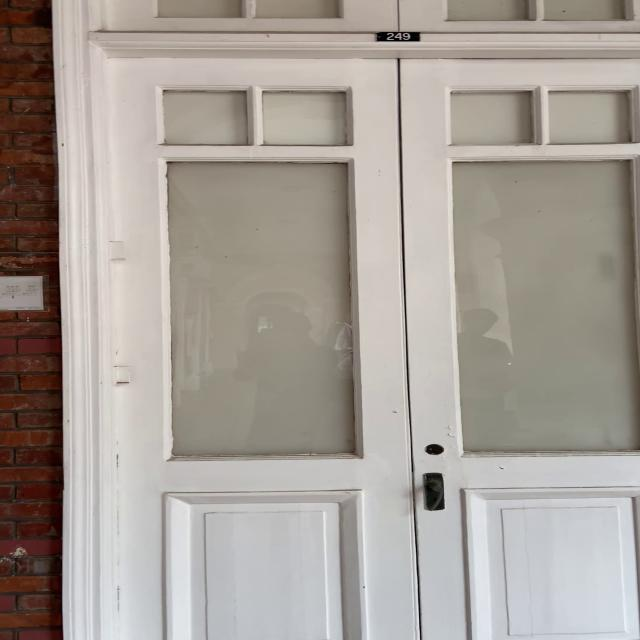room249: (369, 25, 424, 46)
